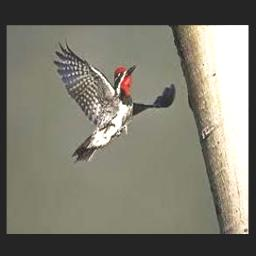Woodpecker: (53, 40, 175, 163)
